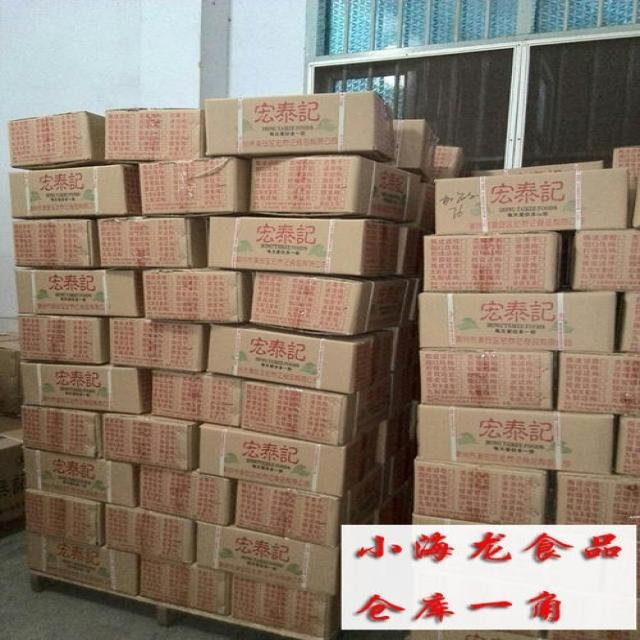box: (417, 404, 616, 476), (207, 320, 394, 394), (234, 461, 392, 548), (198, 422, 379, 497), (205, 90, 393, 162), (419, 285, 616, 353), (435, 168, 628, 235), (206, 216, 401, 276), (251, 154, 421, 222), (242, 372, 394, 446), (195, 521, 339, 596), (250, 271, 415, 335), (412, 460, 549, 524), (422, 231, 562, 292), (419, 349, 553, 410), (24, 530, 140, 596), (9, 164, 141, 220), (23, 448, 141, 508), (20, 361, 152, 414), (230, 575, 339, 638), (138, 157, 251, 217), (6, 109, 106, 170), (97, 215, 207, 270), (15, 270, 143, 317), (102, 412, 202, 472), (143, 268, 252, 323), (138, 465, 237, 525), (140, 555, 232, 615), (106, 503, 197, 563), (109, 318, 209, 372), (151, 369, 244, 427), (557, 352, 640, 415), (105, 108, 205, 159), (24, 487, 105, 546), (20, 405, 104, 459), (567, 229, 640, 291), (18, 315, 109, 364), (556, 471, 640, 524), (12, 219, 100, 269), (393, 118, 438, 179), (0, 415, 24, 524), (472, 160, 608, 177), (376, 402, 411, 464), (0, 331, 22, 417), (614, 415, 640, 476), (381, 322, 413, 371), (390, 439, 416, 491), (618, 292, 640, 352), (410, 630, 535, 640), (394, 226, 420, 274), (431, 146, 466, 178), (411, 513, 492, 525), (547, 629, 640, 639), (393, 367, 413, 412), (613, 144, 640, 176), (419, 182, 435, 230), (494, 630, 543, 638), (632, 176, 639, 229), (360, 515, 375, 525)
